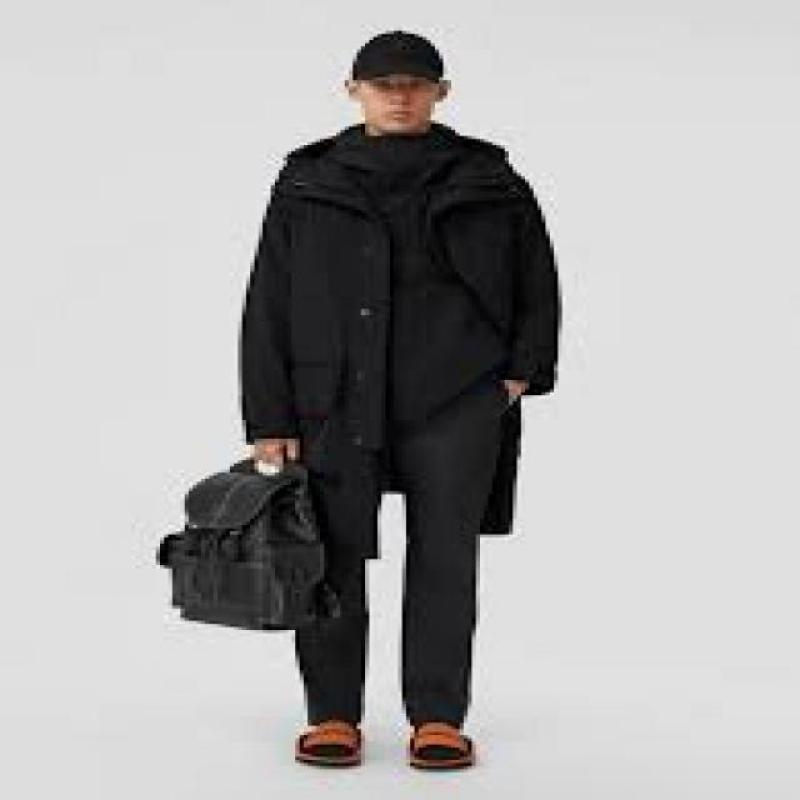coat: (238, 120, 564, 493)
trousers: (291, 380, 506, 730)
